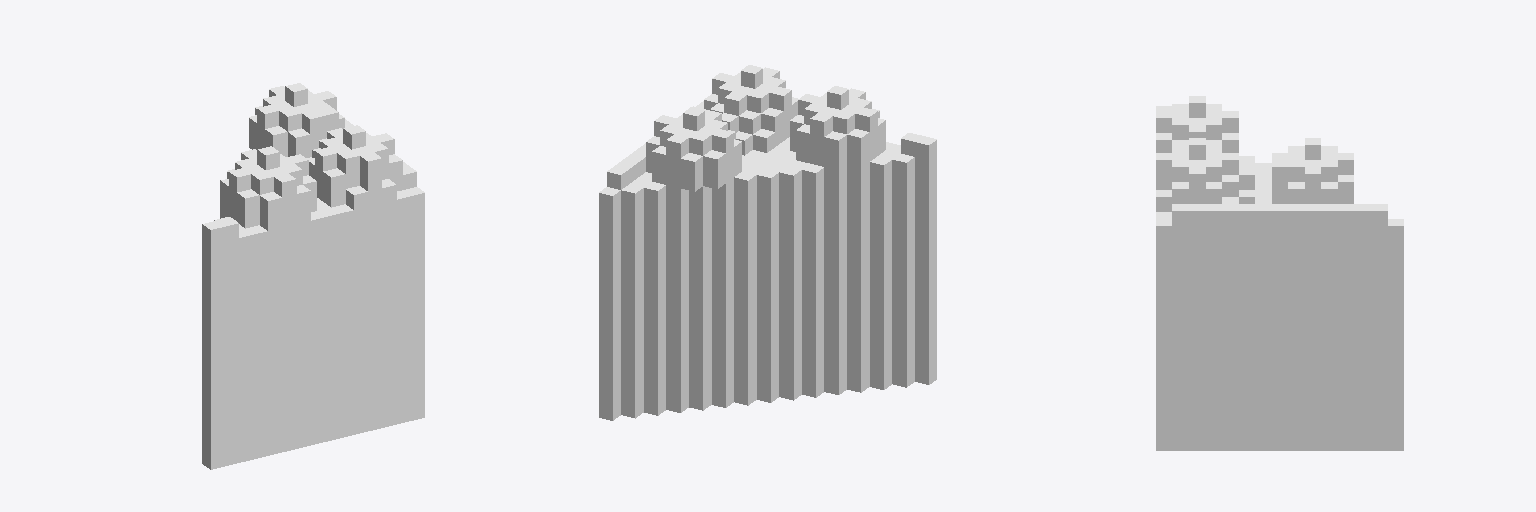
The model's file is ShortCake.obj.
3 views of the same model, side by side, from view 1: azimuth 30°, elevation 25°; view 2: azimuth 150°, elevation 25°; view 3: azimuth 270°, elevation 25° (orthographic).
Parts seen in each view (by area): view 1: ShortCake; view 2: ShortCake; view 3: ShortCake.
Part boxes in pixels (left/top/right/bottom): ShortCake: left=202, top=83, right=424, bottom=469; ShortCake: left=599, top=65, right=936, bottom=420; ShortCake: left=1156, top=96, right=1403, bottom=450.
Size of the model in its own units: 15 by 19 by 15.